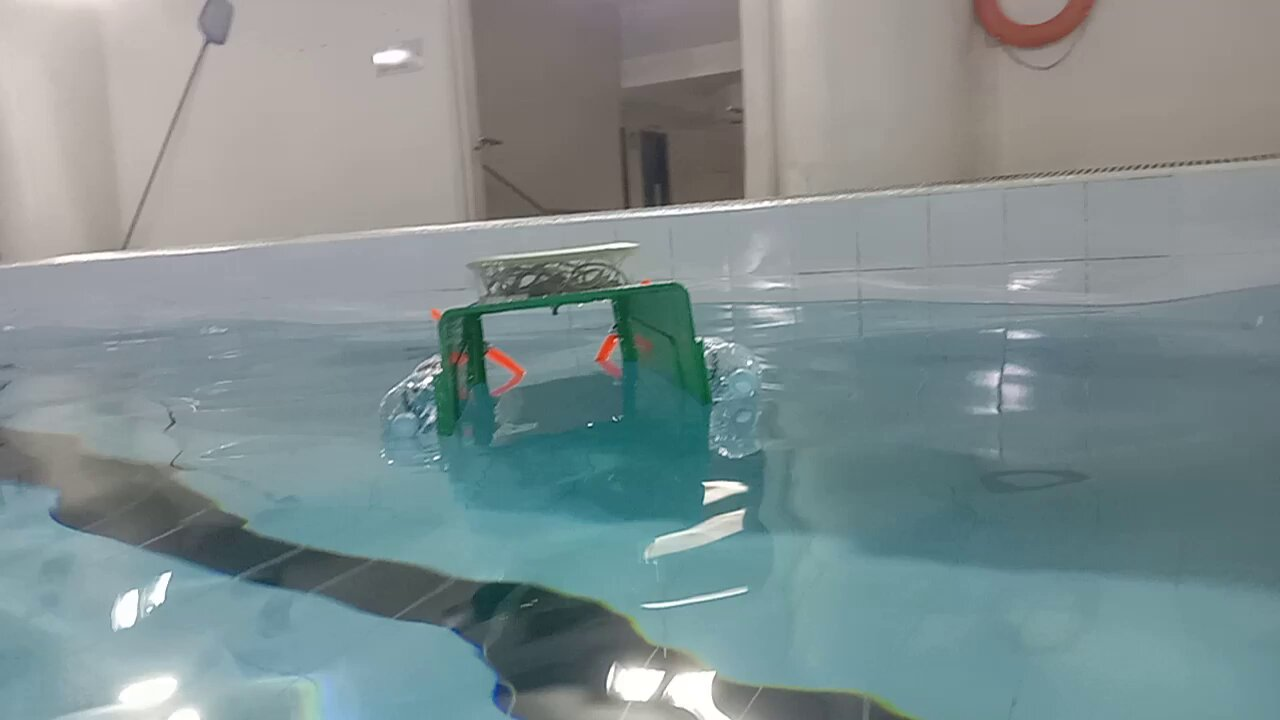drone: (374, 236, 762, 459)
